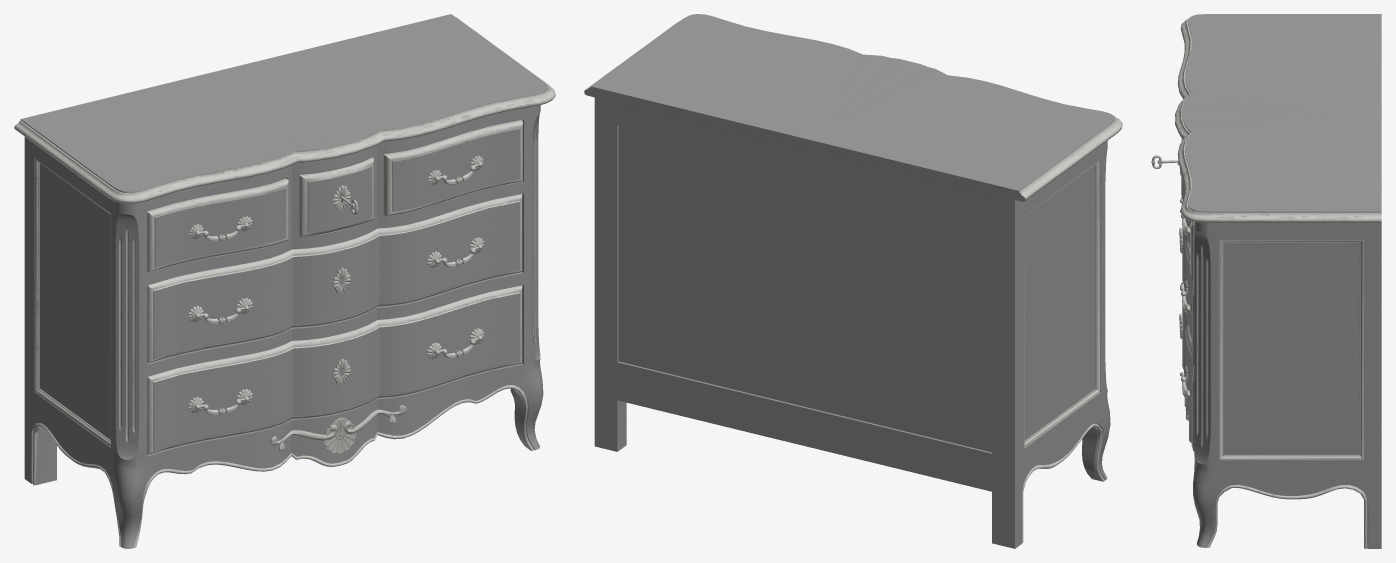
Rendered from example163.gltf.
The picture shows the model from 3 angles, left to right: view 1: azimuth 30°, elevation 25°; view 2: azimuth 150°, elevation 25°; view 3: azimuth 270°, elevation 25°; orthographic projection. The views are drawn at different scales.
Bounding box in the file's own units: 116 × 90.05 × 55.35.
Materials: 2 (2 with a texture image).
